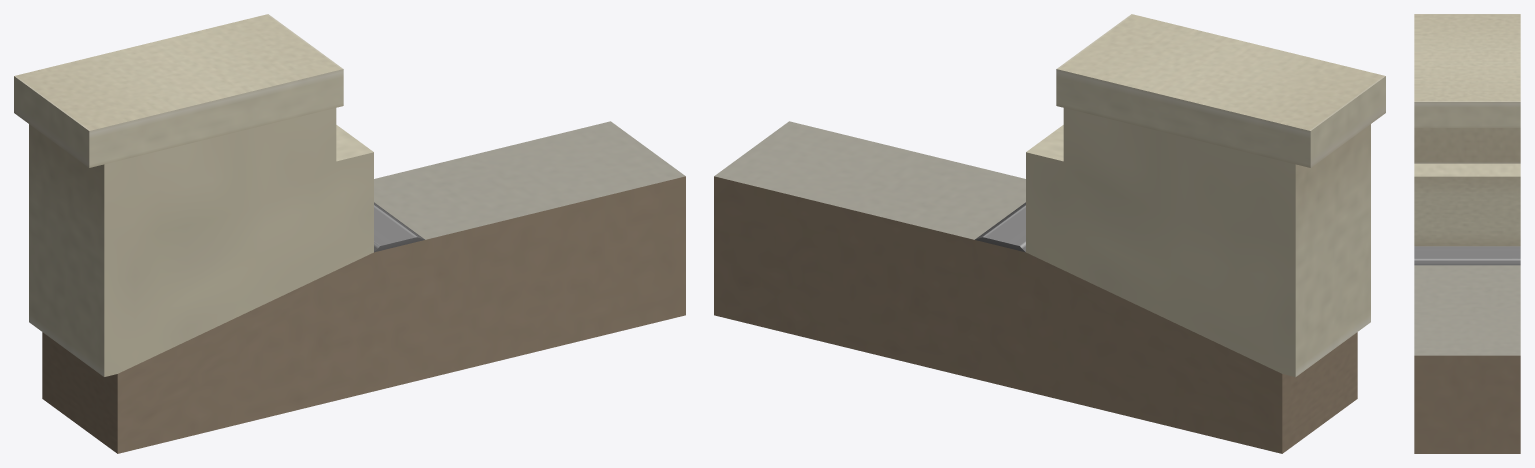
Rendered from set_roof_outside_b04.fbx.
3 renders of one model, left to right at view 1: azimuth 30°, elevation 25°; view 2: azimuth 150°, elevation 25°; view 3: azimuth 270°, elevation 25°, orthographic. The views are drawn at different scales.
Parts seen in each view (by area): view 1: set_roof_outside_b04; view 2: set_roof_outside_b04; view 3: set_roof_outside_b04.
Boxes of the visible parts, x1,y1,x2,y2 form: set_roof_outside_b04: (14, 14, 685, 453); set_roof_outside_b04: (714, 14, 1385, 453); set_roof_outside_b04: (1414, 14, 1520, 453).
Size of the model in its own units: 229 by 121 by 50.
